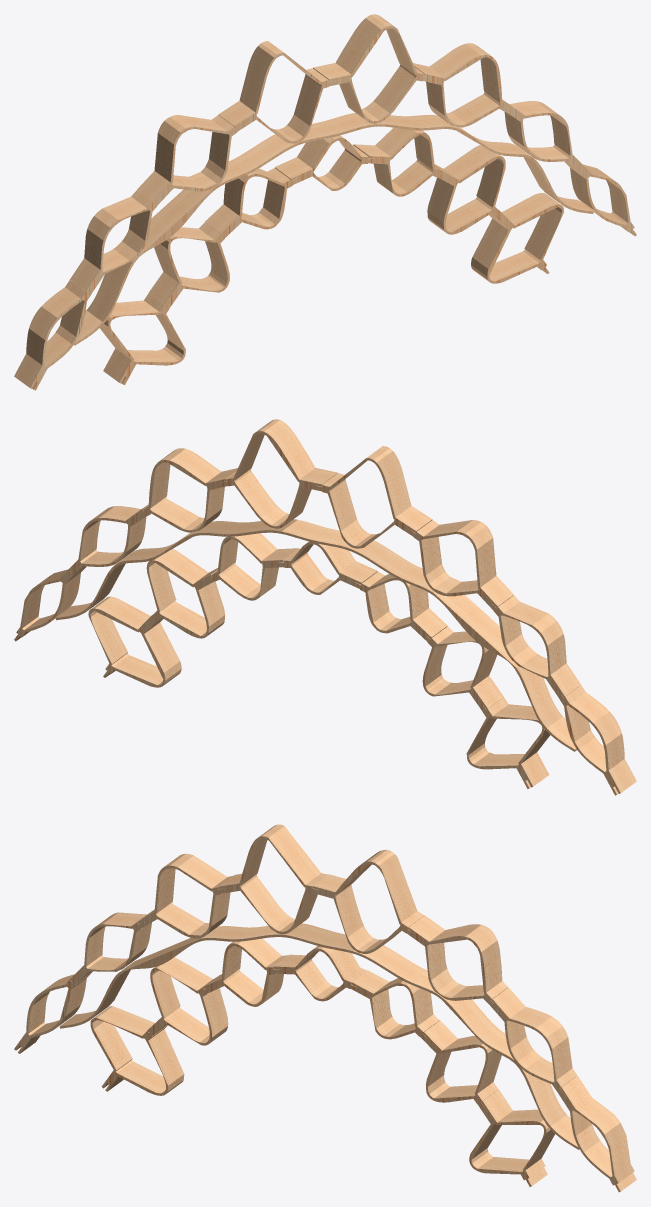
File: ext.glb
3 views of the same model, one above another, from view 1: azimuth 30°, elevation 25°; view 2: azimuth 150°, elevation 25°; view 3: azimuth 330°, elevation 25° (orthographic).
Visible parts, largest first — view 1: aaaa; view 2: aaaa; view 3: aaaa.
Boxes of the visible parts, <box> form: aaaa: <box>14,14,636,390</box>; aaaa: <box>14,419,636,795</box>; aaaa: <box>14,824,636,1192</box>.
Bounding box in the file's own units: 91.18 × 42.2 × 4.63.
Materials: 1 (1 with a texture image).
